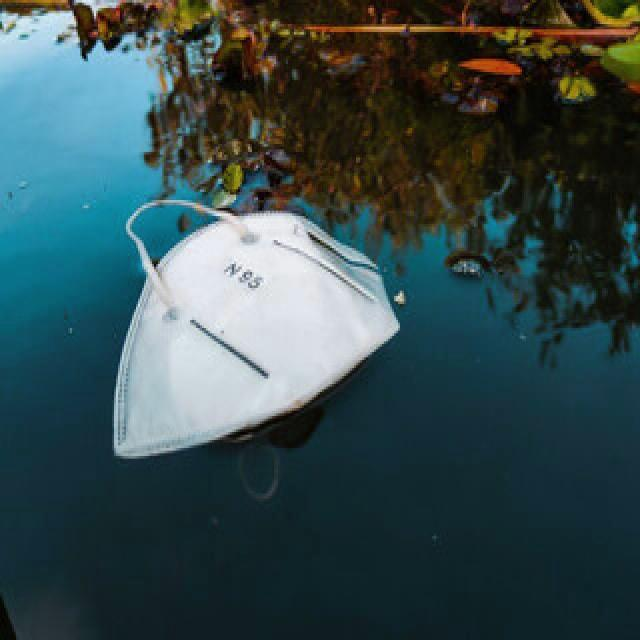Trash: (110, 192, 403, 460)
